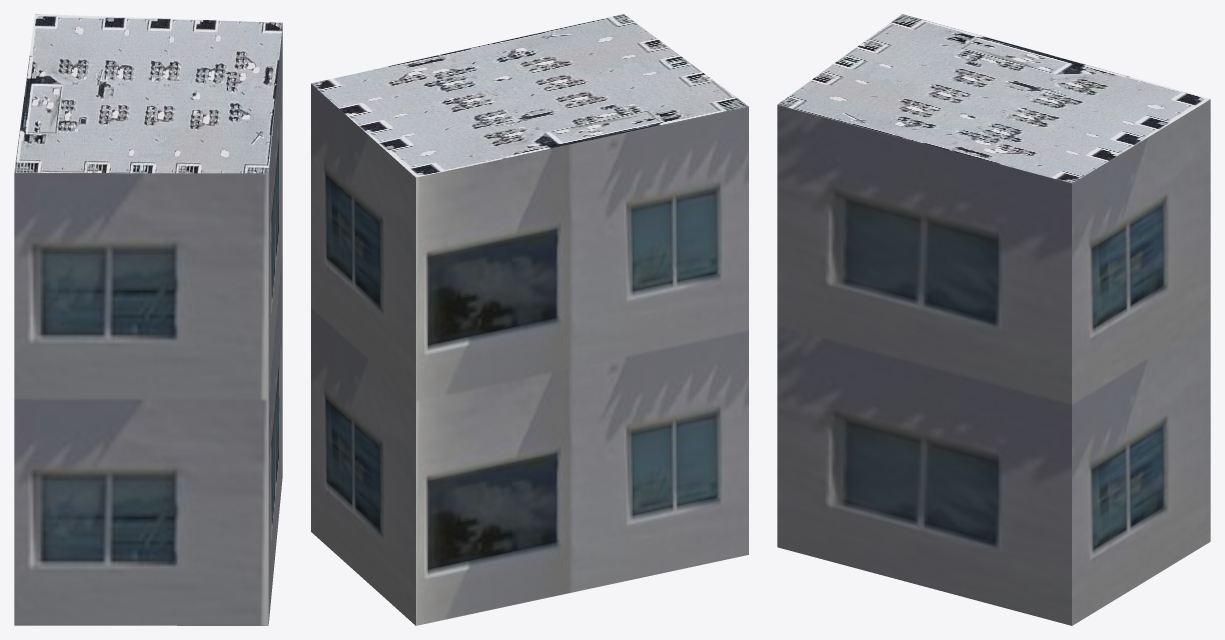
File: ResTex__3729.fbx
3 views of the same model, side by side, from view 1: azimuth 30°, elevation 25°; view 2: azimuth 150°, elevation 25°; view 3: azimuth 270°, elevation 25° (orthographic). The views are drawn at different scales.
Parts seen in each view (by area): view 1: CityEngineMaterial_10_m, CityEngineMaterial_8_m; view 2: CityEngineMaterial_10_m, CityEngineMaterial_8_m; view 3: CityEngineMaterial_10_m, CityEngineMaterial_8_m.
Part boxes in pixels (x1,y1,x2,y2): CityEngineMaterial_10_m: (14,26,282,625); CityEngineMaterial_8_m: (14,14,282,173); CityEngineMaterial_10_m: (311,84,748,625); CityEngineMaterial_8_m: (311,14,748,177); CityEngineMaterial_10_m: (777,99,1210,625); CityEngineMaterial_8_m: (777,14,1210,183).
Size of the model in its own units: 4.93 by 6 by 5.33.
2 materials, 2 textured.
